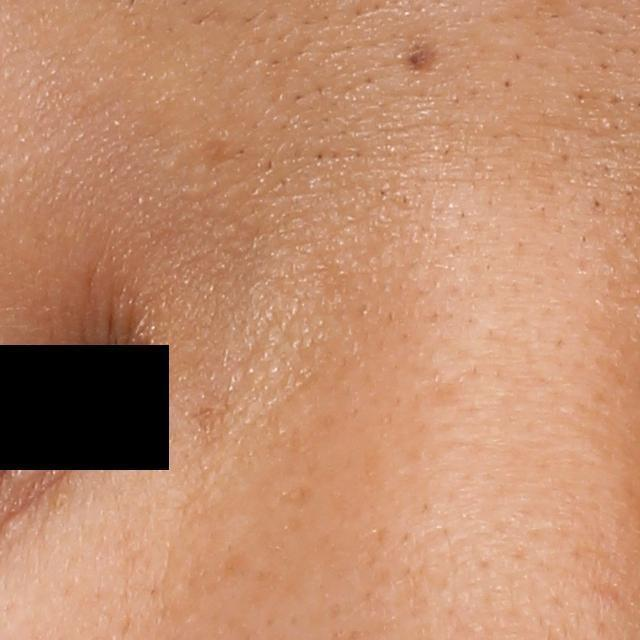melasma: (182, 398, 236, 445)
nevus: (403, 40, 430, 73)
